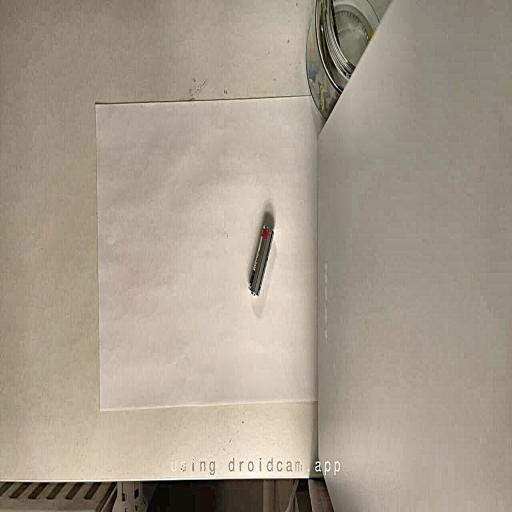RainbowAA: (249, 225, 273, 295)
